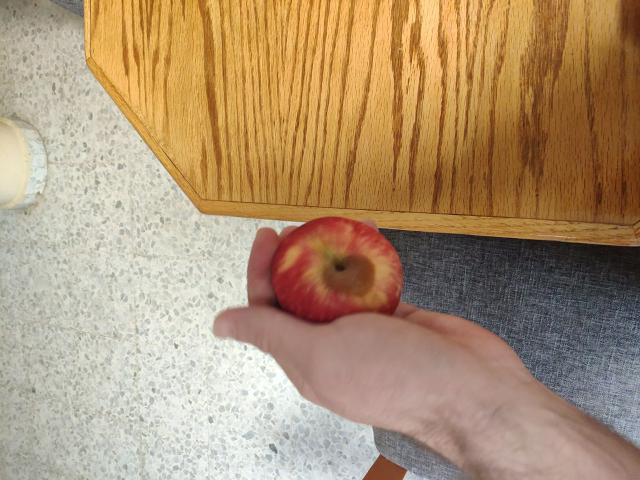apple: (261, 211, 432, 341)
